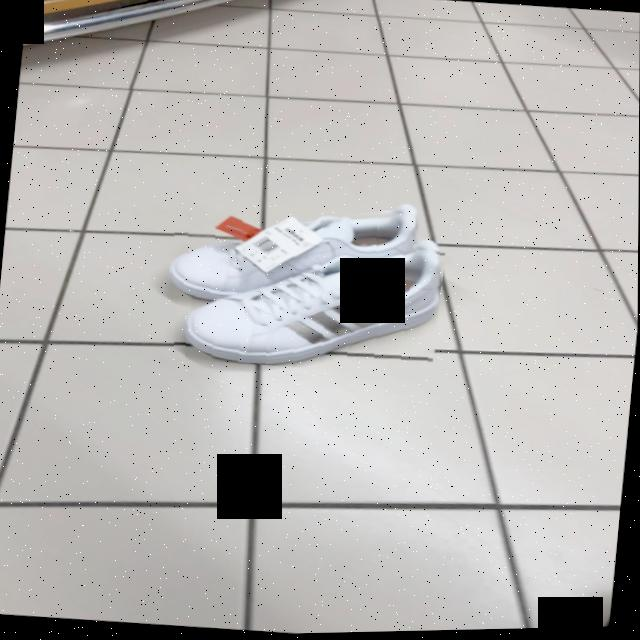shoe: (181, 249, 441, 367), (172, 214, 416, 299)
